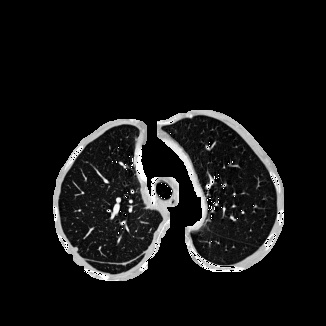PN: (74, 247, 78, 251)
